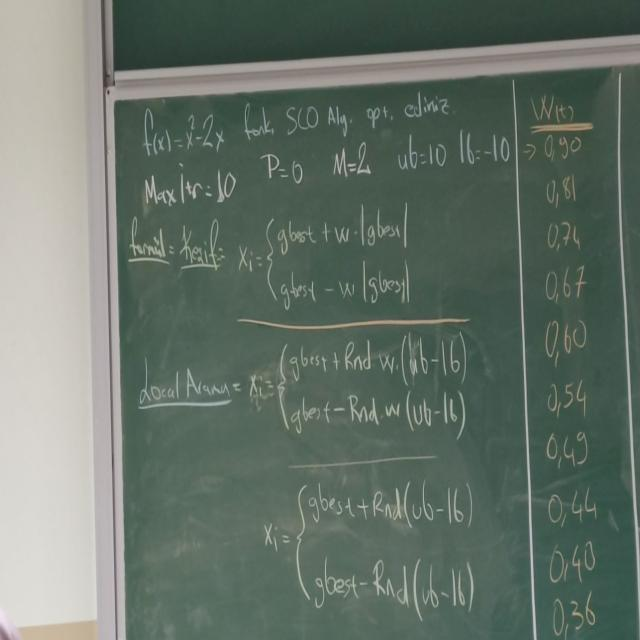math: (134, 92, 516, 182), (535, 129, 602, 639), (262, 469, 482, 621), (246, 328, 469, 443), (235, 200, 418, 314), (144, 167, 236, 216)
text: (137, 352, 232, 417), (128, 216, 220, 274)
